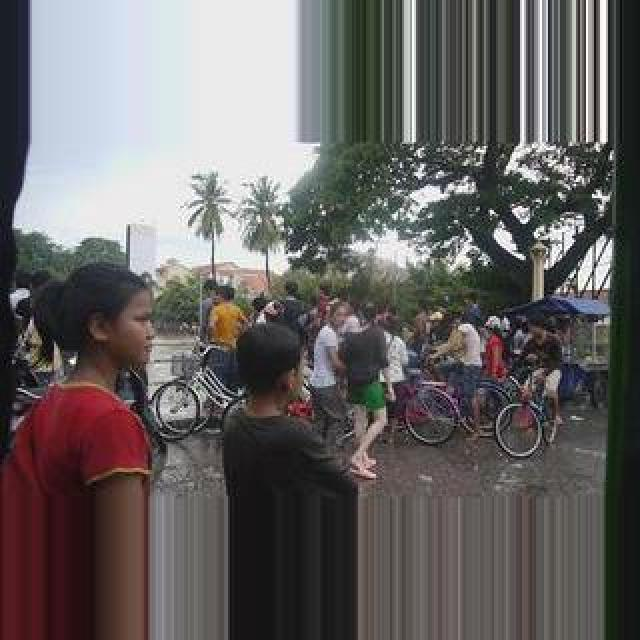MC-Bike: (0, 264, 160, 640), (220, 320, 350, 632), (338, 302, 394, 478), (308, 302, 354, 458), (510, 320, 564, 428), (436, 314, 484, 434), (204, 284, 248, 374)
Person: (148, 342, 244, 442), (392, 366, 492, 446), (496, 366, 564, 460)
